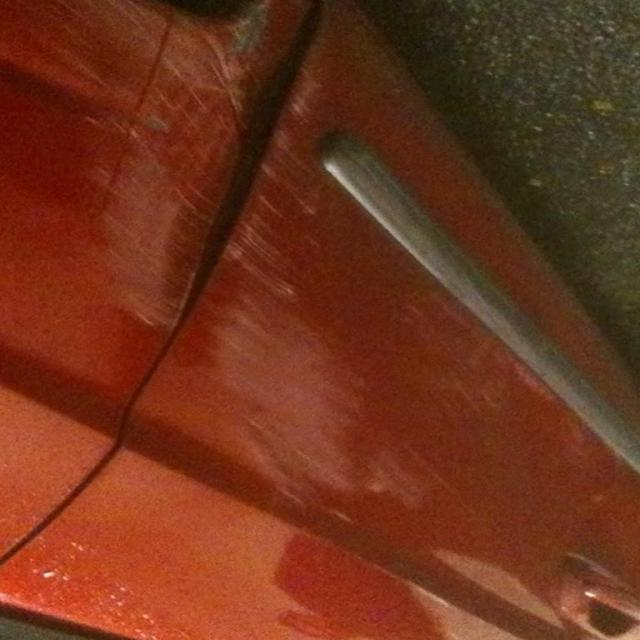scratch: (110, 9, 398, 366)
